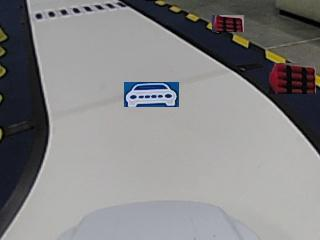crosswalk: (32, 1, 124, 19)
